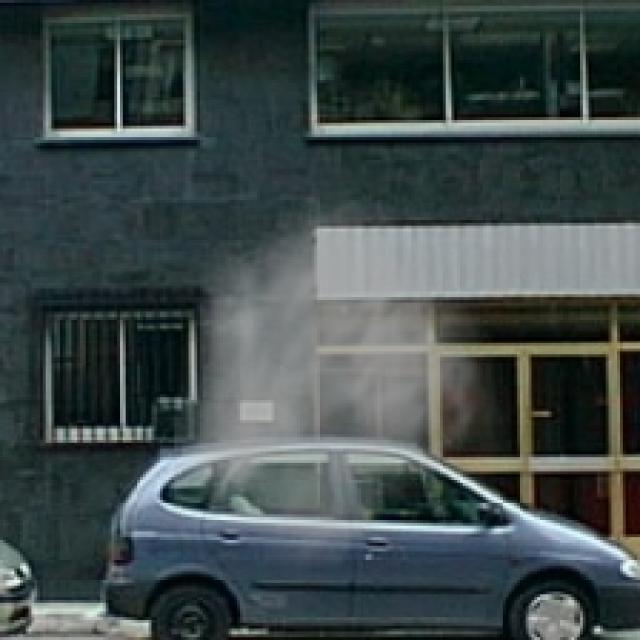smoke: (174, 180, 517, 586)
